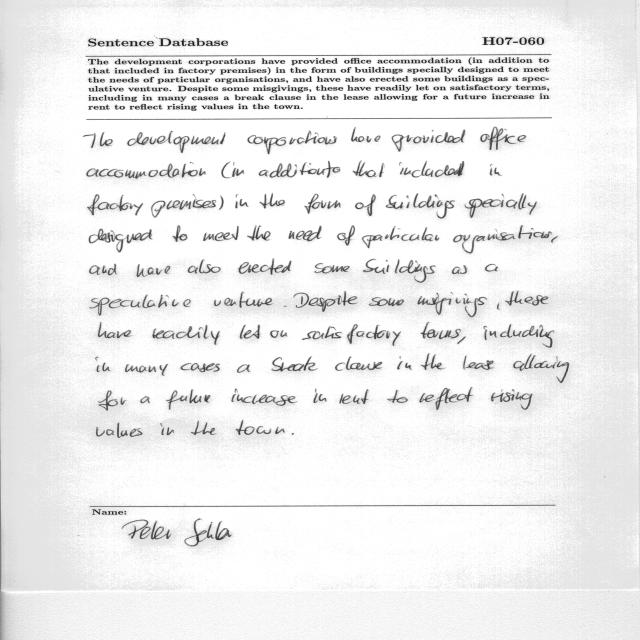word: (453, 226, 552, 254), (302, 324, 401, 346), (128, 131, 226, 153), (90, 295, 191, 316), (248, 131, 337, 154), (87, 162, 206, 179), (465, 193, 537, 218), (363, 259, 436, 283), (417, 292, 487, 317), (386, 194, 455, 219), (514, 354, 570, 383), (362, 228, 439, 249), (392, 130, 465, 152), (151, 194, 216, 218), (489, 324, 554, 348), (89, 229, 152, 252), (152, 325, 220, 345), (294, 291, 357, 312), (419, 387, 473, 410), (231, 388, 297, 406), (88, 195, 143, 216), (480, 127, 526, 150), (400, 161, 465, 177), (421, 322, 466, 344), (214, 292, 273, 308), (259, 162, 317, 178), (491, 389, 533, 410), (167, 390, 211, 410), (239, 259, 292, 275), (97, 422, 143, 438), (236, 420, 285, 435), (305, 194, 341, 214), (335, 356, 382, 371), (272, 357, 318, 372), (506, 291, 549, 306), (203, 226, 239, 241), (99, 322, 132, 338), (99, 391, 126, 410), (353, 161, 384, 177), (289, 226, 322, 241), (83, 132, 113, 148), (125, 364, 168, 375), (463, 355, 494, 370), (355, 194, 376, 216), (188, 260, 221, 274), (351, 128, 381, 143), (137, 264, 171, 277), (340, 389, 369, 404), (317, 161, 341, 178), (259, 194, 285, 209), (421, 353, 443, 370), (247, 226, 271, 241), (337, 226, 355, 246), (181, 363, 220, 372), (315, 263, 350, 273), (191, 421, 216, 435), (369, 298, 404, 307), (90, 264, 117, 275), (240, 325, 260, 339), (387, 390, 408, 403), (173, 225, 188, 242), (96, 357, 111, 372), (313, 389, 327, 403), (397, 357, 412, 370), (236, 195, 249, 209), (232, 162, 244, 177), (161, 423, 175, 435), (222, 162, 231, 178), (490, 164, 502, 176), (271, 330, 288, 338), (452, 265, 467, 274), (237, 364, 250, 373), (485, 264, 498, 272), (140, 397, 150, 404), (219, 197, 224, 210), (484, 326, 487, 340), (552, 237, 558, 243), (497, 305, 500, 310), (291, 433, 294, 435), (284, 306, 287, 307)
